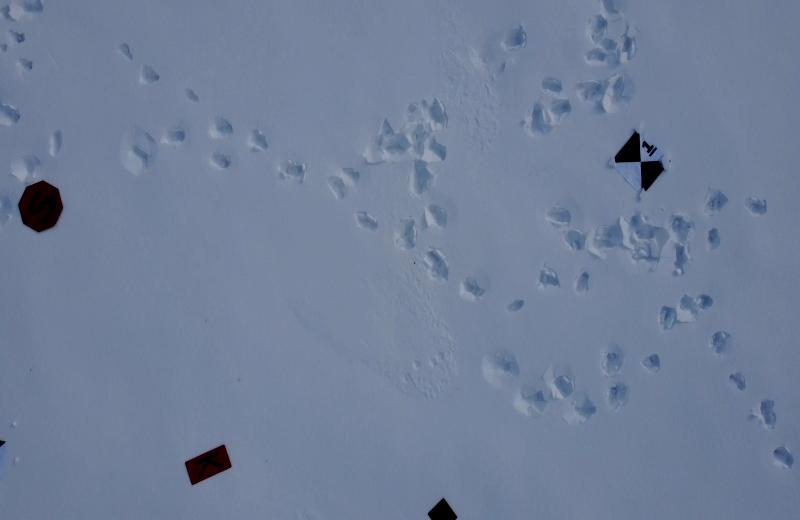Octagon: (17, 179, 64, 232)
Rectangle: (181, 445, 234, 487)
